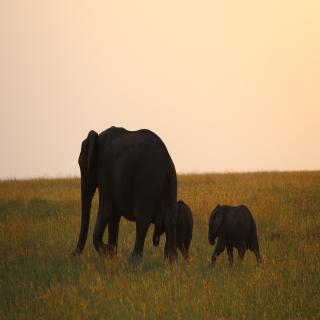Elephant: (73, 122, 181, 270), (206, 199, 267, 273)
